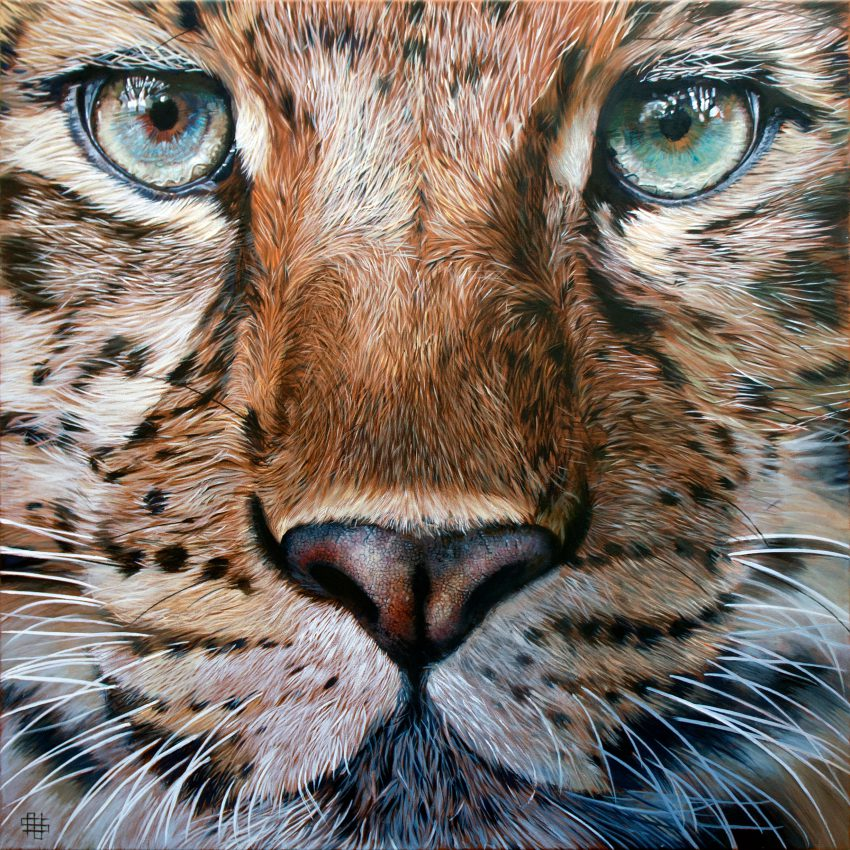amur_leopard: (9, 3, 849, 846)
